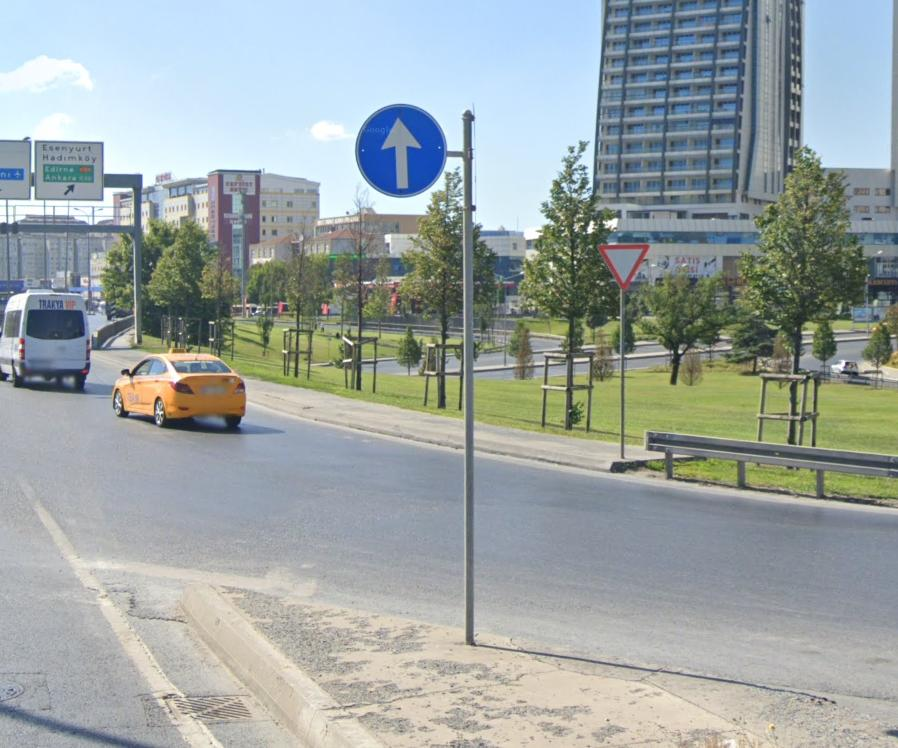forward: (361, 109, 440, 188)
